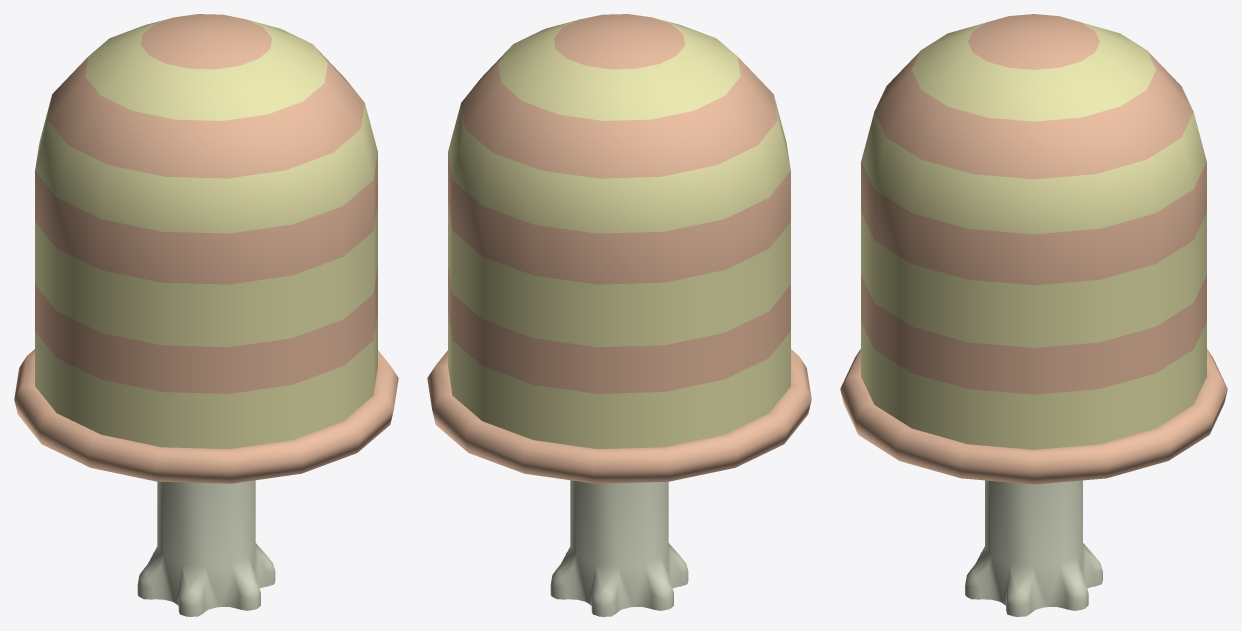
File: SM_Tree.fbx
3 renders of one model, left to right at view 1: azimuth 30°, elevation 25°; view 2: azimuth 150°, elevation 25°; view 3: azimuth 270°, elevation 25°, orthographic.
Visible parts, largest first — view 1: SM_Tree; view 2: SM_Tree; view 3: SM_Tree.
Part boxes in pixels (x1=…): SM_Tree: x1=14, y1=14, x2=398, y2=616; SM_Tree: x1=427, y1=14, x2=811, y2=616; SM_Tree: x1=840, y1=14, x2=1227, y2=616.
Size of the model in its own units: 4 by 6.33 by 4.
